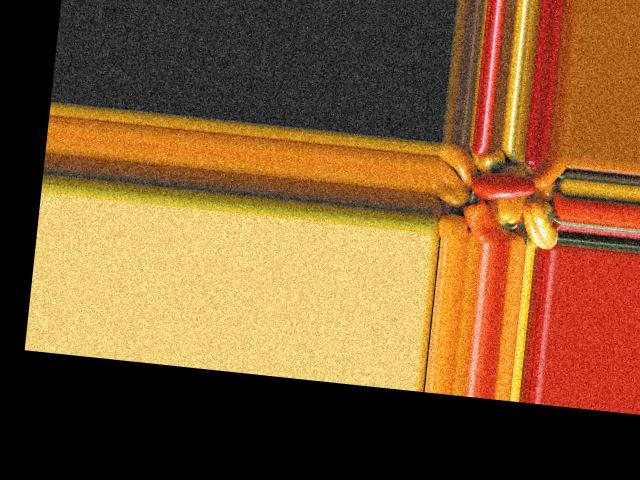bell_pepper: (517, 201, 562, 248)
